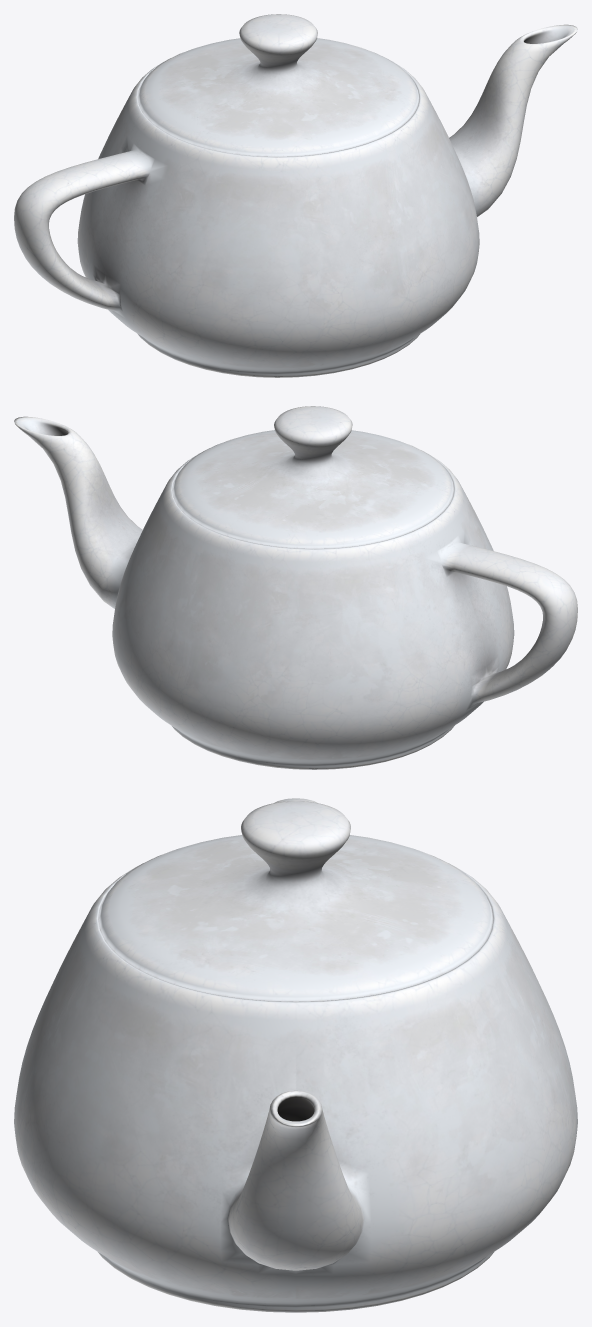
File: Utah_Teapot.obj
3 renders of one model, top to bottom at view 1: azimuth 30°, elevation 25°; view 2: azimuth 150°, elevation 25°; view 3: azimuth 270°, elevation 25°, orthographic. The views are drawn at different scales.
Visible parts, largest first — view 1: UtahTeapot_low; view 2: UtahTeapot_low; view 3: UtahTeapot_low.
Boxes of the visible parts, <box> form: UtahTeapot_low: <box>14,14,577,377</box>; UtahTeapot_low: <box>14,406,577,769</box>; UtahTeapot_low: <box>14,798,577,1312</box>.
Bounding box in the file's own units: 195 × 100 × 121.
1 material, 1 textured.
